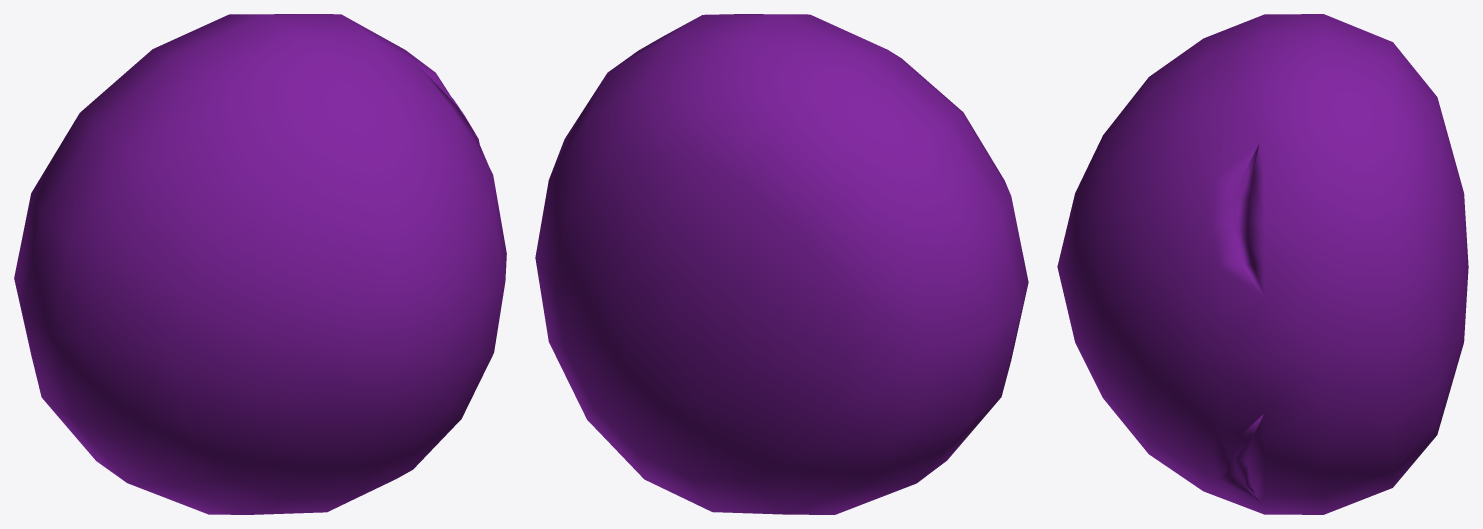
Rendered from blob_rotate.fbx.
3 views of the same model, side by side, from view 1: azimuth 30°, elevation 25°; view 2: azimuth 150°, elevation 25°; view 3: azimuth 270°, elevation 25° (orthographic). The views are drawn at different scales.
Parts seen in each view (by area): view 1: Blob_with_eyes; view 2: Blob_with_eyes; view 3: Blob_with_eyes.
Part boxes in pixels (left/top/right/bottom): Blob_with_eyes: left=14, top=14, right=506, bottom=514; Blob_with_eyes: left=535, top=14, right=1028, bottom=514; Blob_with_eyes: left=1057, top=14, right=1468, bottom=514.
Bounding box in the file's own units: 198 × 204 × 165.
